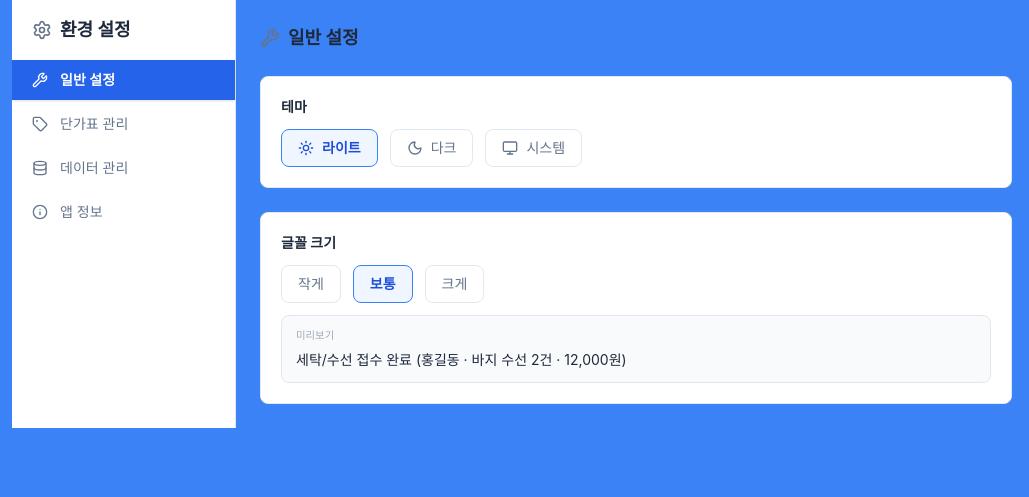
Test: SettingsPage › 앱 정보 카테고리를 클릭하면 콘텐츠가 변경된다
Click the button "앱 정보" at (124, 212), box left=12, top=192, right=235, bottom=232
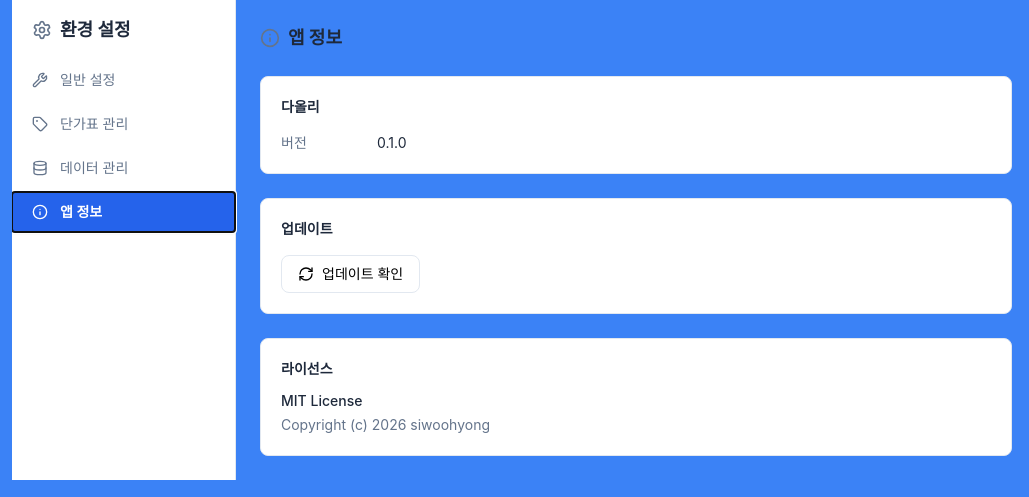
Now the heading "다올리" is shown, box left=281, top=98, right=320, bottom=115
Now the text "0.1.0" is shown, box left=377, top=133, right=406, bottom=153
Now the heading "테마" is gone
